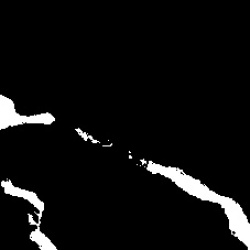crack: (140, 161, 248, 248), (3, 179, 55, 249), (0, 95, 55, 129), (76, 128, 102, 142)
pinhole: (125, 148, 133, 161)
